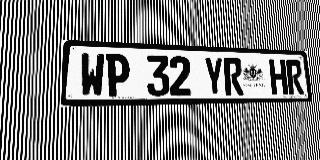2: (169, 56, 191, 96)
3: (147, 55, 170, 96)
H: (269, 59, 288, 95)
P: (106, 53, 129, 97)
R: (223, 57, 243, 95), (285, 60, 304, 95)
W: (80, 53, 105, 97)
Y: (204, 57, 225, 96)
